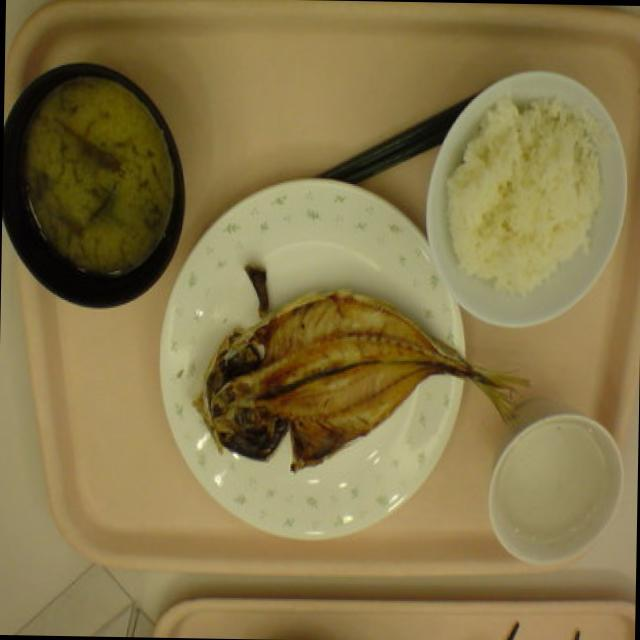Rice: (458, 120, 592, 284)
